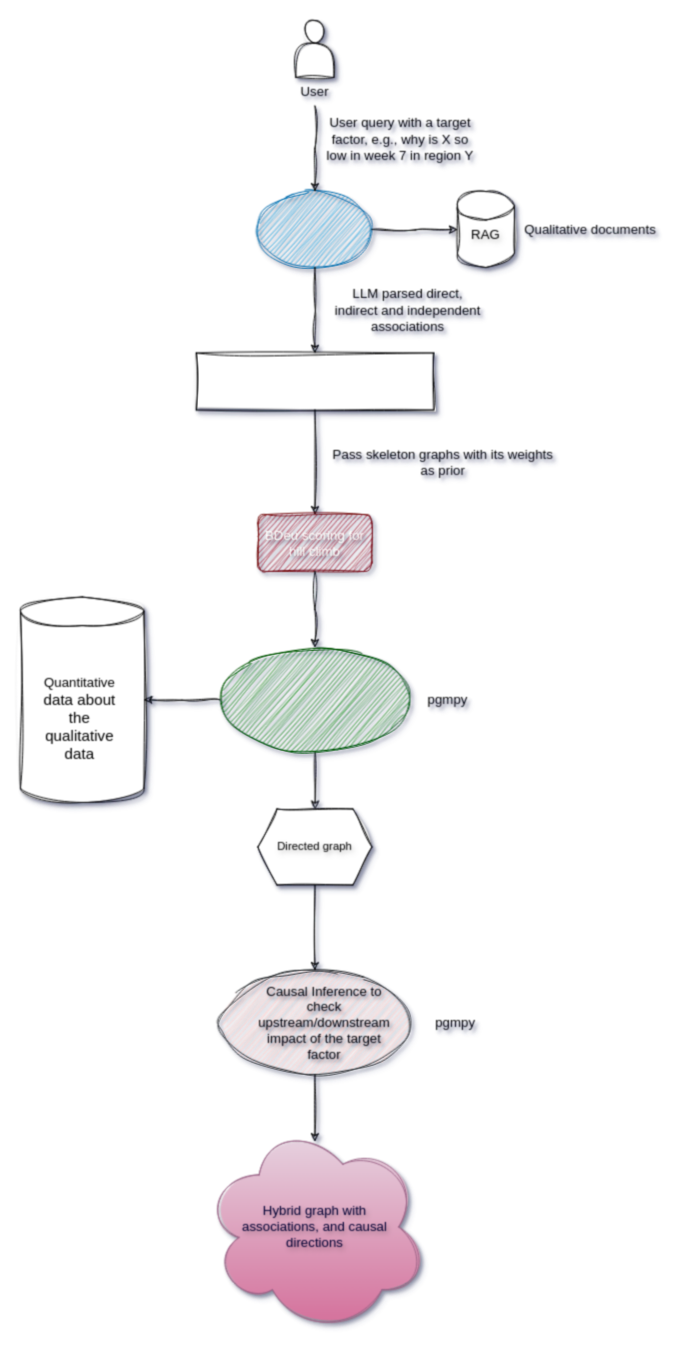
Image size: 689x1360. Some labels were removed from this diagram. The centre of each missing label's shape, as x and y in pixels:
Bedrock LLMs: the point at 315,230
Hill climb algorithm to create a structure graph with directions: the point at 315,701
Skeletion graph creation using association: the point at 315,382
